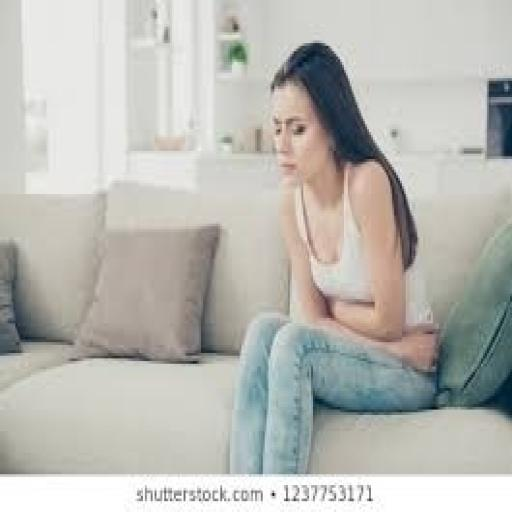sitting: (228, 35, 510, 472)
